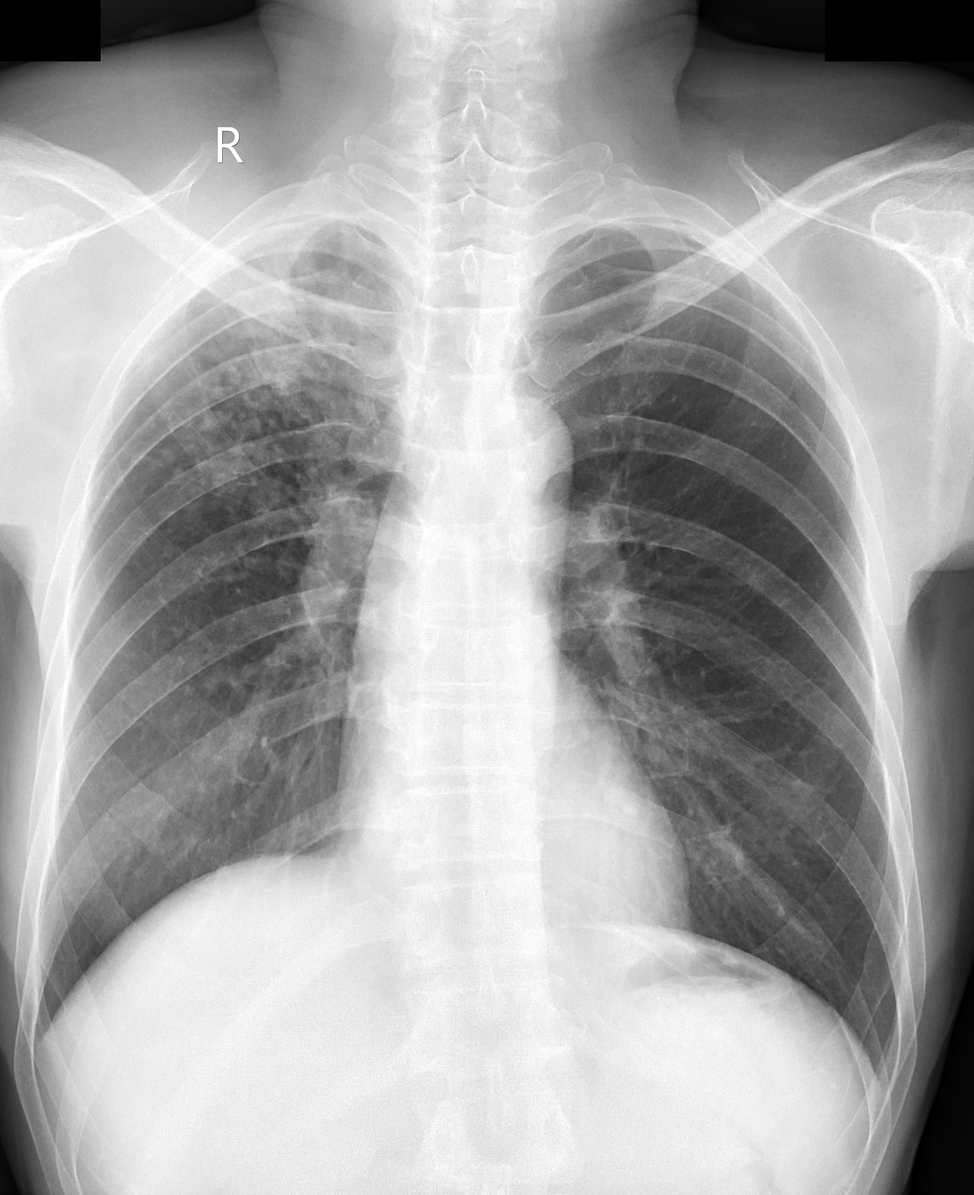Pleural thickening: (626, 212, 743, 264), (20, 1003, 58, 1055)
Pulmonary fibrosis: (115, 223, 386, 516)
